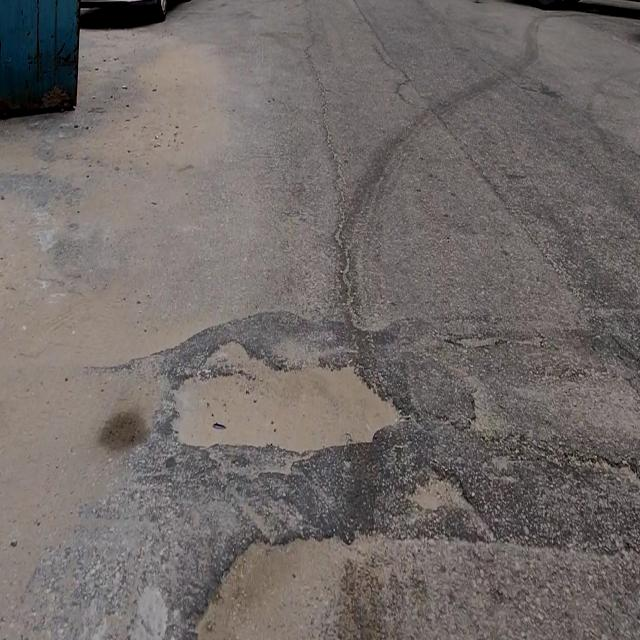Potholes: (170, 336, 411, 458), (189, 528, 380, 640)
